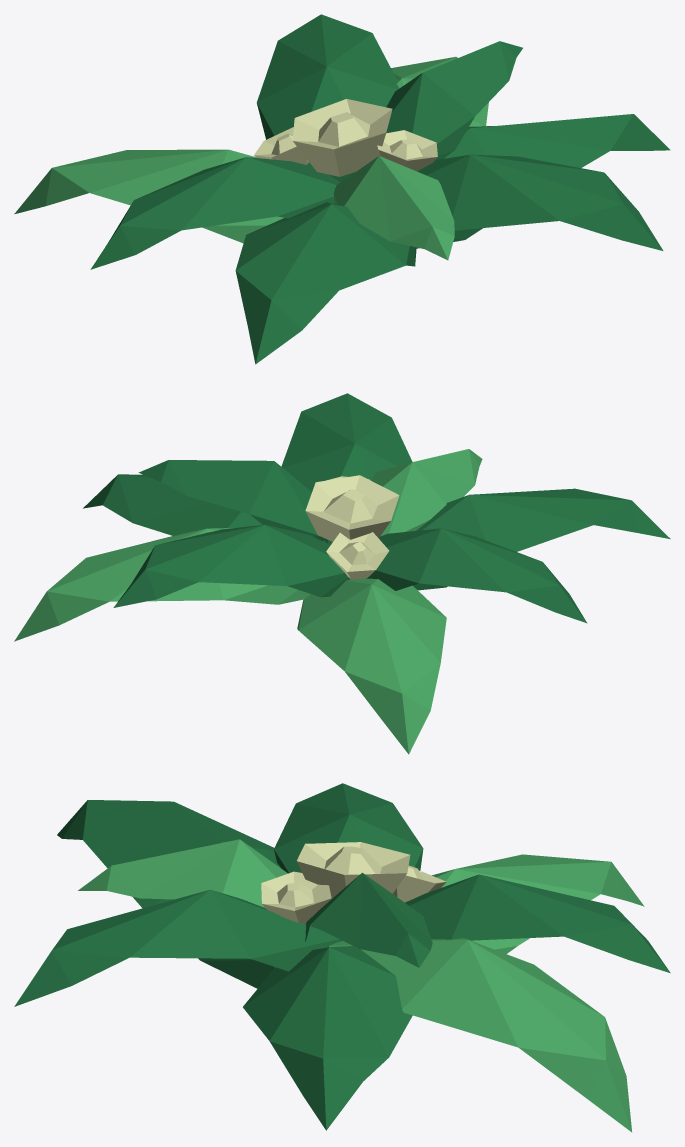
File: SM_Env_Plant_01-optimized.glb
The picture shows the model from 3 angles, top to bottom: view 1: azimuth 30°, elevation 25°; view 2: azimuth 150°, elevation 25°; view 3: azimuth 270°, elevation 25°; orthographic projection. The views are drawn at different scales.
Visible parts, largest first — view 1: SM_Env_Plant_01; view 2: SM_Env_Plant_01; view 3: SM_Env_Plant_01.
Boxes of the visible parts, x1,y1,x2,y2 form: SM_Env_Plant_01: (14,14,670,364); SM_Env_Plant_01: (14,393,670,754); SM_Env_Plant_01: (14,783,670,1132).
Bounding box in the file's own units: 2.46 × 0.6862 × 2.22.
1 material, 1 textured.
